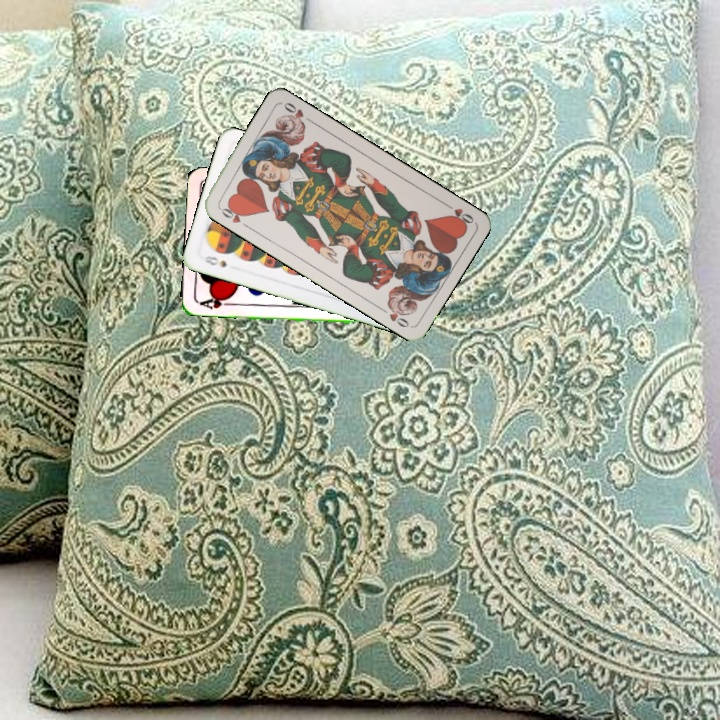HA: (195, 292, 235, 312)
HO: (440, 198, 476, 229), (215, 200, 251, 230)
S8: (200, 252, 229, 270)
